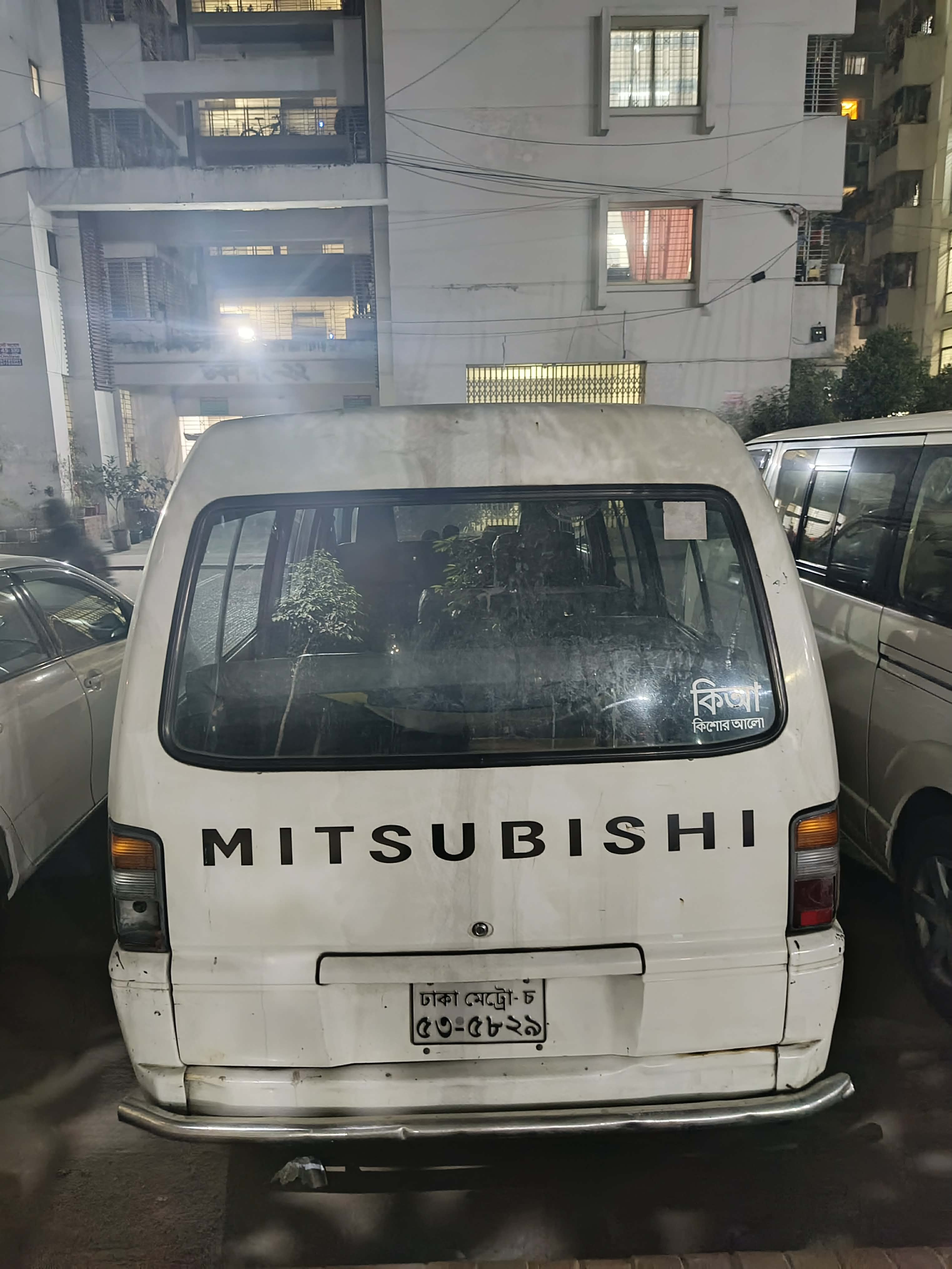private car: (103, 310, 952, 1154), (0, 497, 137, 942)
